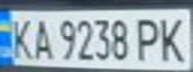2: (75, 16, 93, 62)
3: (90, 16, 115, 62)
8: (109, 15, 133, 62)
9: (54, 15, 78, 62)
A: (27, 15, 57, 61)
K: (154, 12, 190, 63), (6, 15, 36, 61)
P: (133, 15, 163, 62)
